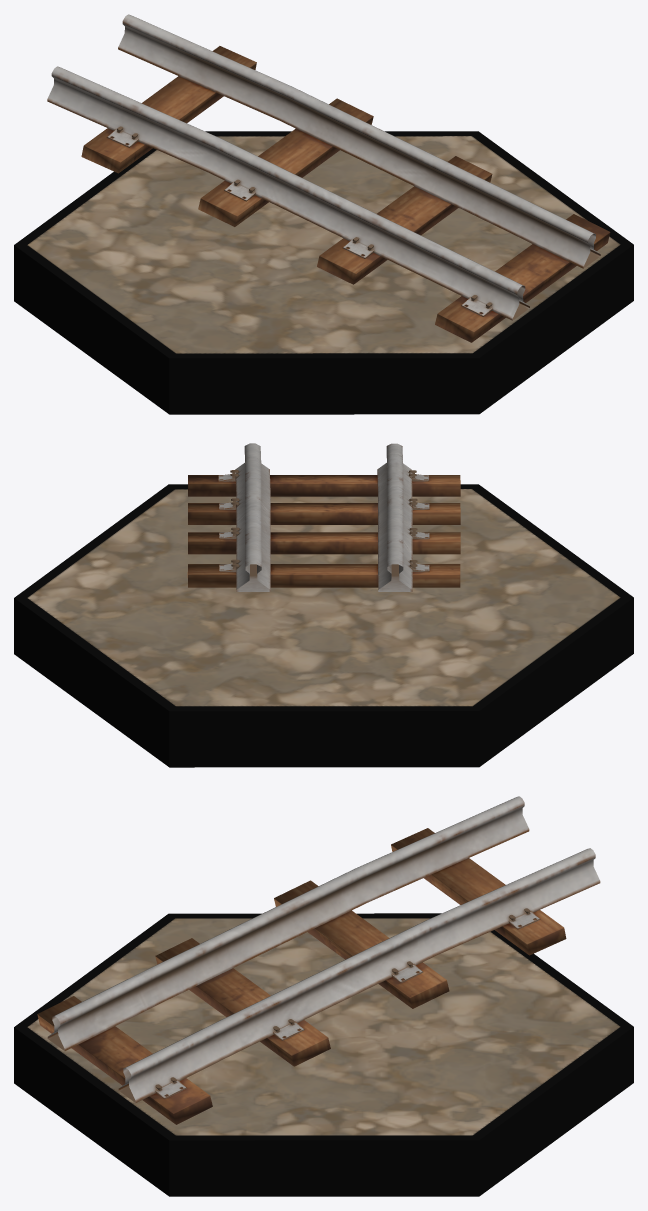
Rendered from trilho_inclinado.fbx.
The picture shows the model from 3 angles, top to bottom: view 1: azimuth 30°, elevation 25°; view 2: azimuth 150°, elevation 25°; view 3: azimuth 270°, elevation 25°; orthographic projection.
Parts seen in each view (by area): view 1: trilho_inclinado; view 2: trilho_inclinado; view 3: trilho_inclinado.
Boxes of the visible parts, x1,y1,x2,y2 form: trilho_inclinado: [14, 14, 633, 414]; trilho_inclinado: [14, 443, 633, 767]; trilho_inclinado: [14, 796, 633, 1196].
Size of the model in its own units: 173 by 72.3 by 200.
